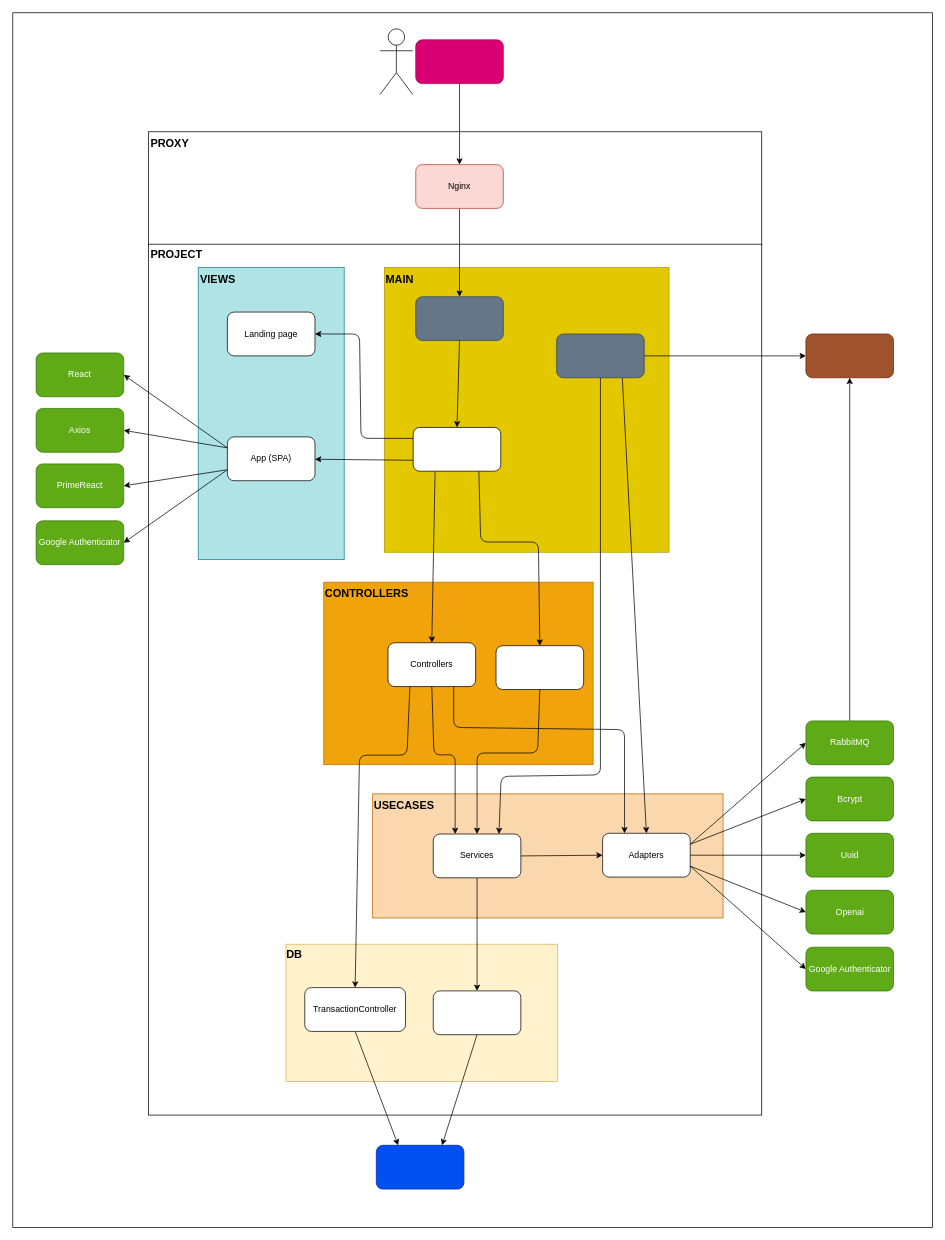
Some shapes in this 945 by 1240 pixel diagram are drawn without their labels. Here are the shapes that lost their labels. From the top down, the box of each, then its label:
(415, 39, 503, 84): Client
(415, 296, 503, 341): Api
(556, 333, 644, 378): QueueConsumer
(805, 333, 894, 378): RabbitMQ Service
(412, 427, 501, 471): Routes
(495, 645, 584, 689): Middlewares
(433, 990, 521, 1035): Models
(376, 1145, 464, 1189): Postgres
